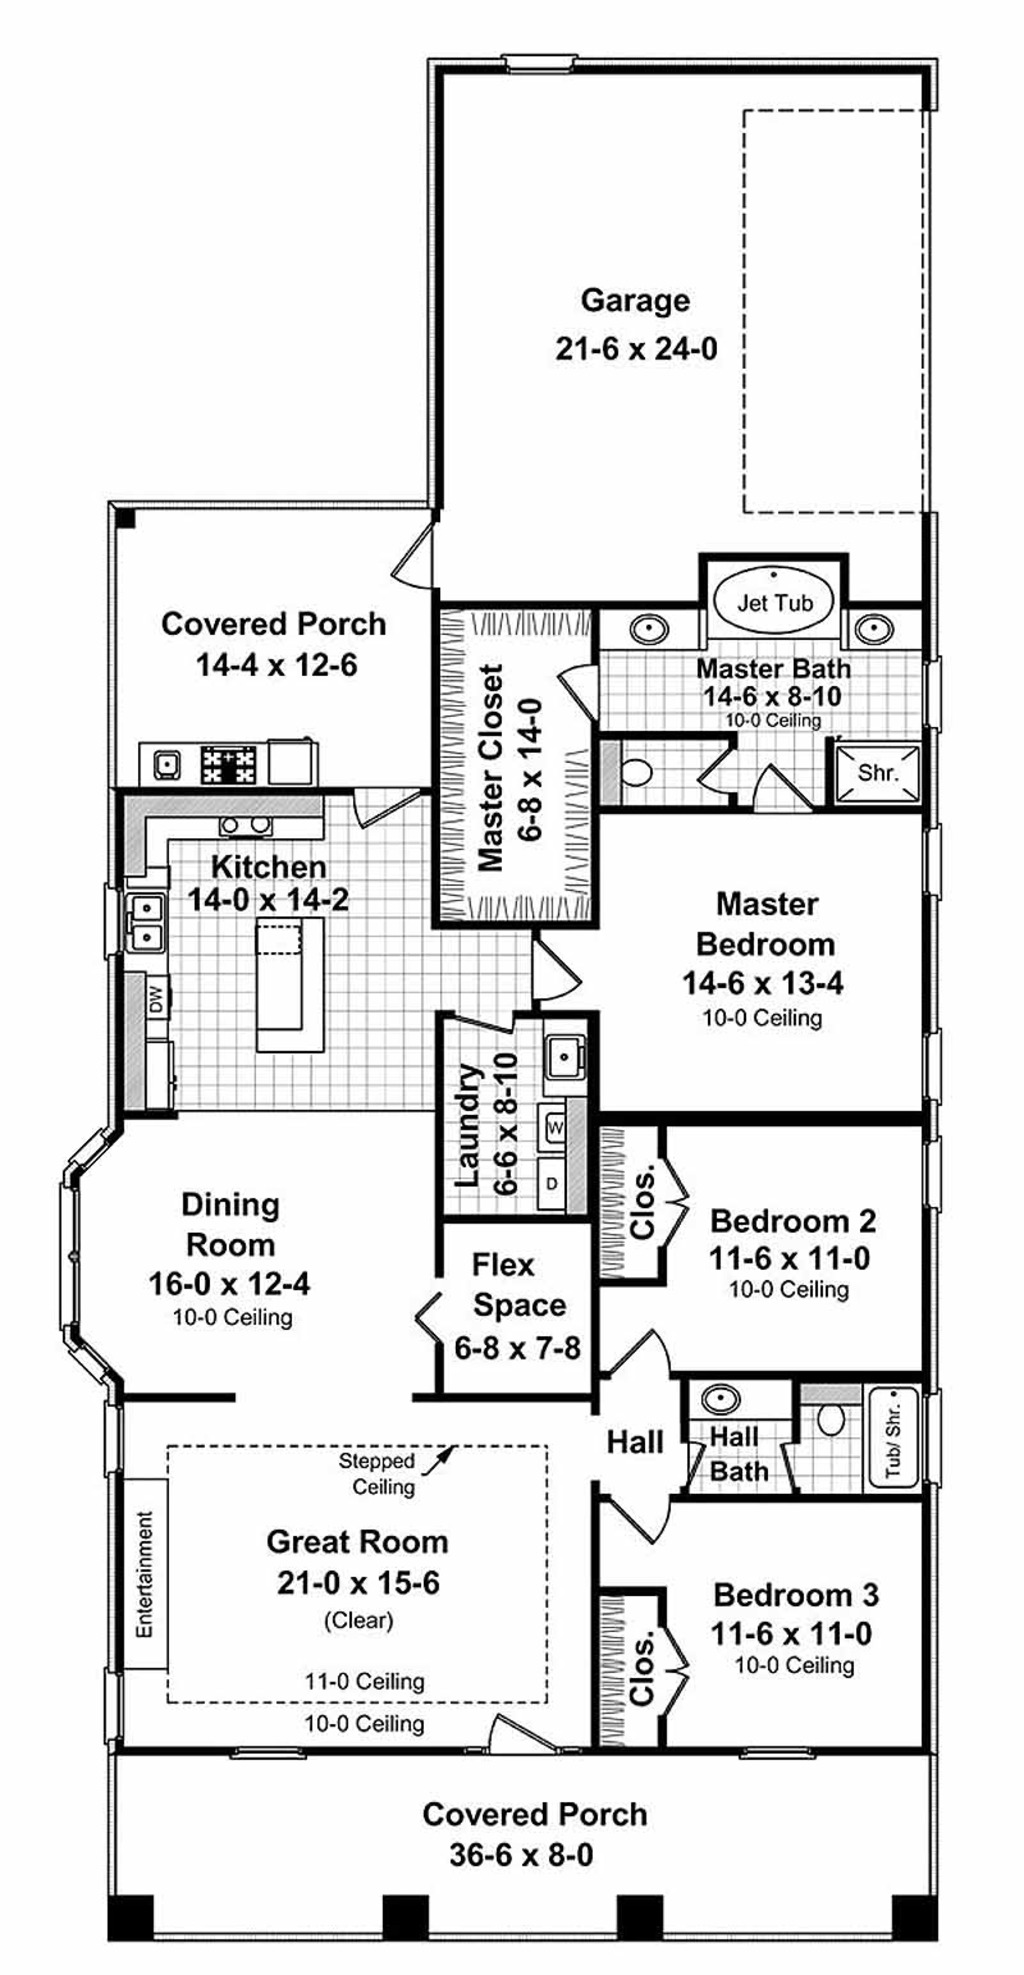door: (641, 1613, 716, 1734), (374, 510, 469, 598), (538, 658, 626, 726), (644, 1164, 704, 1261), (735, 751, 810, 826), (532, 925, 594, 1012), (479, 1689, 554, 1761), (601, 1489, 691, 1546), (334, 773, 423, 826), (588, 1329, 677, 1382), (697, 734, 744, 815), (448, 1001, 522, 1051), (763, 1438, 819, 1499), (669, 1438, 716, 1492)
large_sink: (598, 734, 684, 854), (785, 1376, 857, 1448)
small_sink: (835, 600, 938, 658), (677, 1376, 792, 1425), (603, 598, 701, 651)
tub: (857, 1373, 929, 1489)
twin_sink: (98, 879, 210, 954)
window: (60, 1117, 125, 1392)
